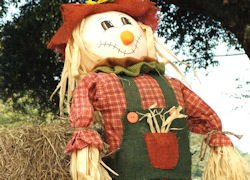person-like: (52, 1, 250, 179)
